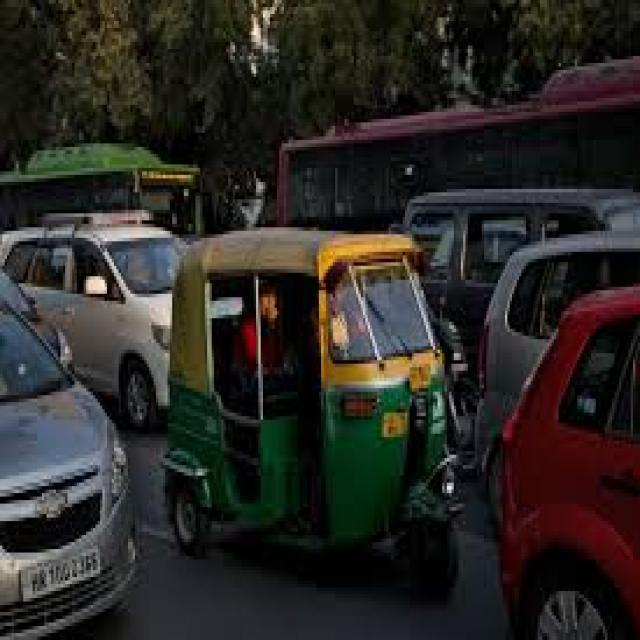bus: (277, 56, 638, 231), (0, 143, 198, 234)
car: (500, 287, 638, 640), (0, 308, 133, 640), (475, 231, 638, 458), (0, 224, 179, 427), (0, 269, 70, 371)
motorcycle: (433, 315, 477, 483)
three wheeler: (163, 227, 454, 588)
van: (403, 189, 638, 355)
